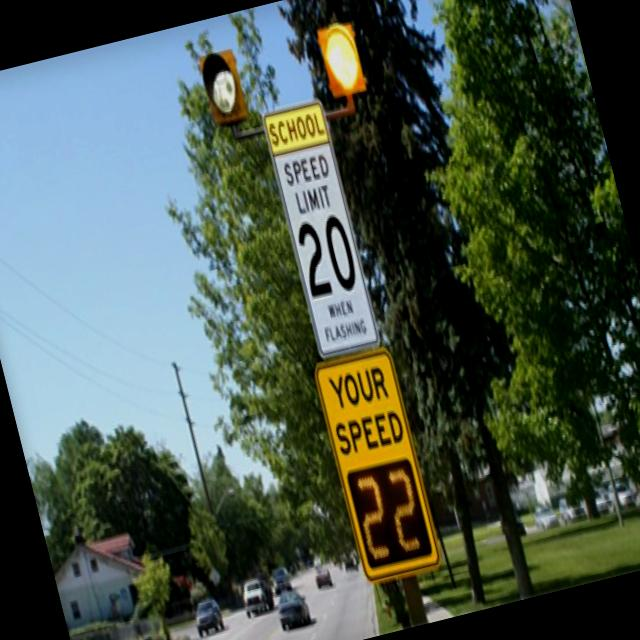Speed Limit Signs: (256, 95, 384, 362)
